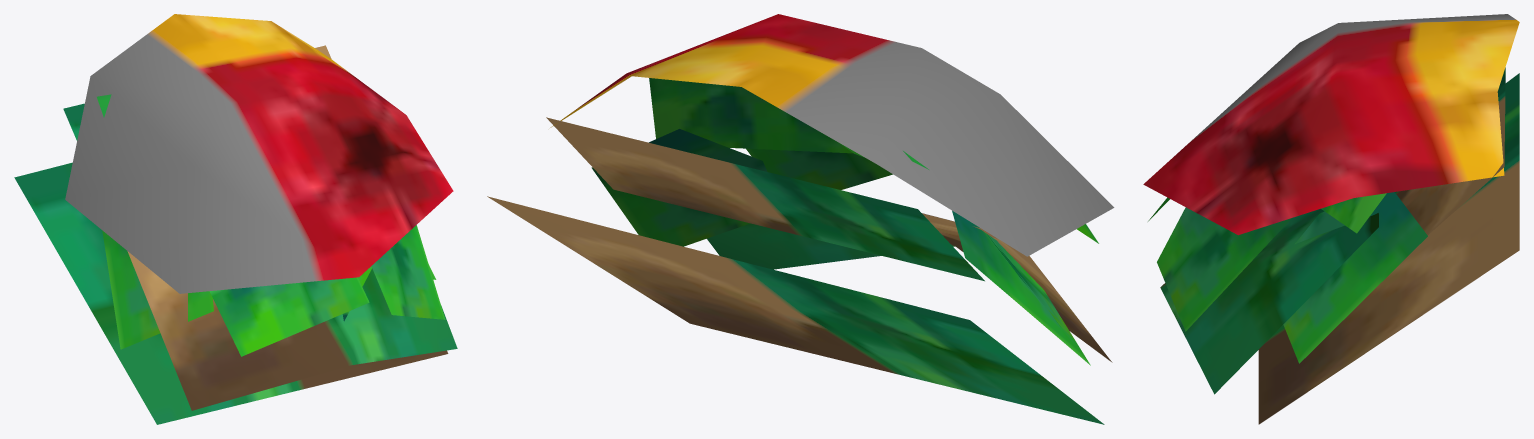
Rendered from fg_bushB_2_s.dae.
3 renders of one model, left to right at view 1: azimuth 30°, elevation 25°; view 2: azimuth 150°, elevation 25°; view 3: azimuth 270°, elevation 25°, orthographic. The views are drawn at different scales.
Visible parts, largest first — view 1: fg_bushB_2_s; view 2: fg_bushB_2_s; view 3: fg_bushB_2_s.
Part boxes in pixels (left/top/right/bottom): fg_bushB_2_s: left=14, top=14, right=457, bottom=424; fg_bushB_2_s: left=487, top=14, right=1114, bottom=424; fg_bushB_2_s: left=1143, top=14, right=1519, bottom=424.
Size of the model in its own units: 43.24 by 35.41 by 37.79.
1 material, 1 textured.
